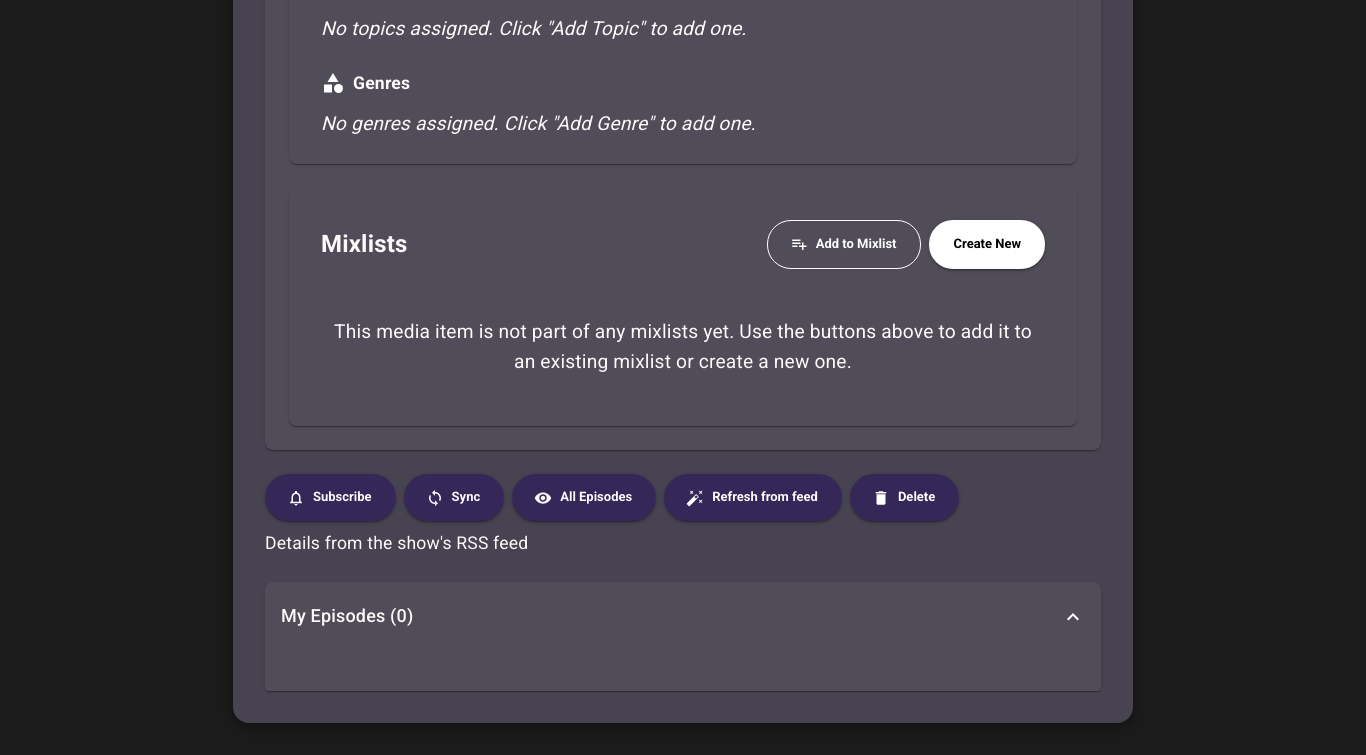
Test case: PodcastSeriesProfile › subscribes an unsubscribed series
This screenshot has width=1366, height=755.
(page scrolled)
Click the button "Subscribe" at [330, 498], box [265, 474, 396, 521]
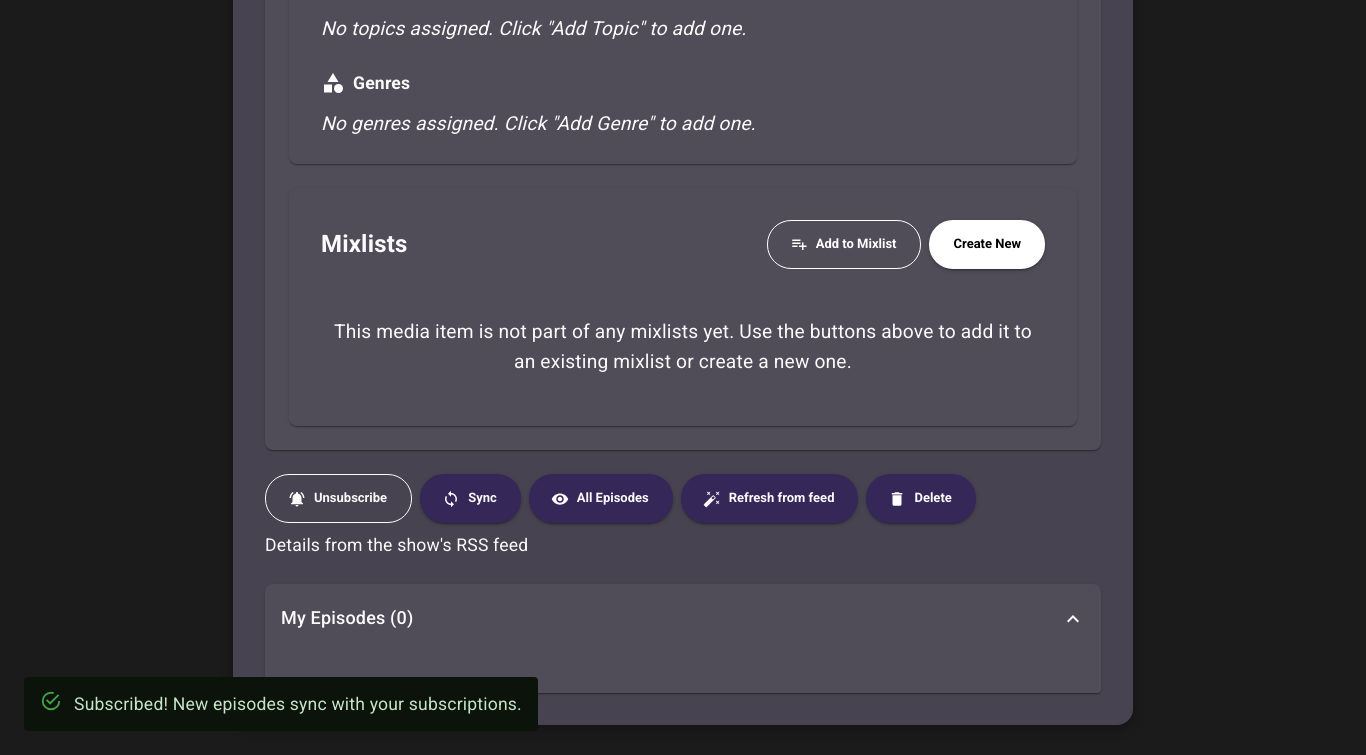
Now the button "Unsubscribe" is shown, box [265, 474, 412, 523]
Now the text "Subscribed! New episodes sync with your subscriptions." is shown, box [74, 694, 522, 714]
